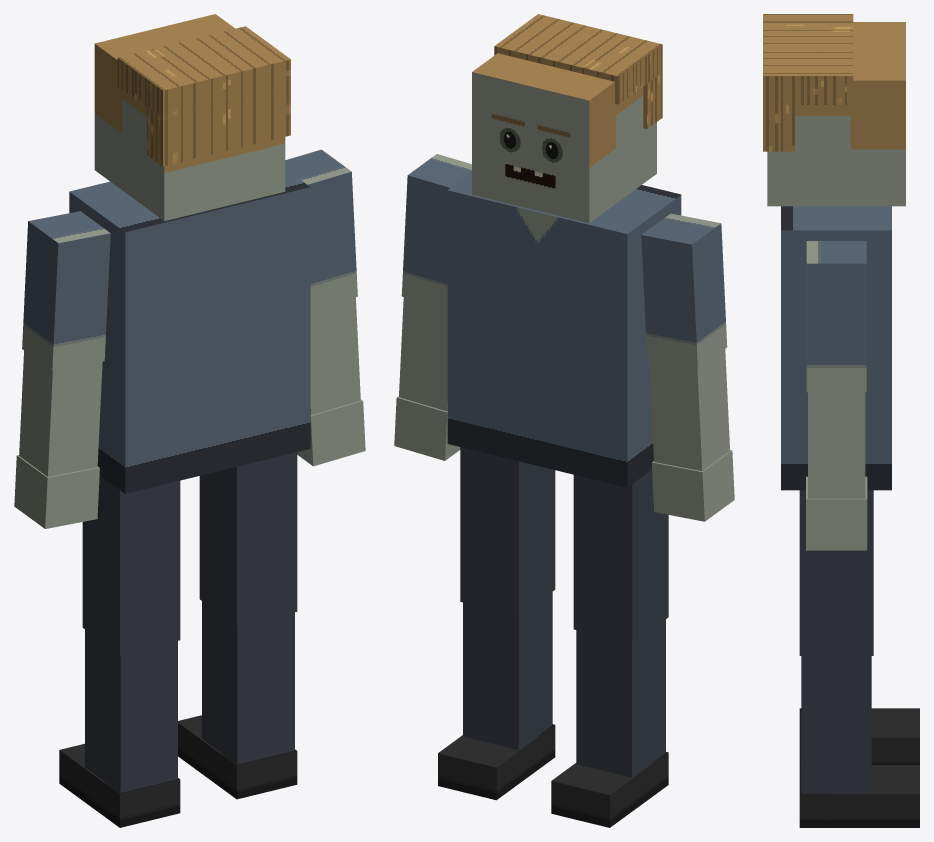
File: hair_receding.glb
3 views of the same model, side by side, from view 1: azimuth 30°, elevation 25°; view 2: azimuth 150°, elevation 25°; view 3: azimuth 270°, elevation 25° (orthographic). The views are drawn at different scales.
Parts seen in each view (by area): view 1: block_torso, block_head, block_thigh.L, block_thigh.R, block_shin.R, block_shin.L, block_upper_arm.L, block_hair-receding, block_forearm.L, block_upper_arm.R, block_hair-back, block_forearm.R (+4 smaller); view 2: block_torso, block_head, block_thigh.L, block_thigh.R, block_shin.L, block_shin.R, block_upper_arm.L, block_forearm.L, block_hair-receding, block_upper_arm.R, block_foot.L, block_foot.R (+4 smaller); view 3: block_head, block_torso, block_shin.R, block_upper_arm.R, block_thigh.R, block_hair-receding, block_forearm.R, block_foot.R, block_hand.R, block_foot.L, block_hair-back.
Part boxes in pixels (x1,y1,x2,y2): block_torso: (69, 169, 310, 493); block_head: (94, 14, 285, 220); block_thigh.L: (82, 475, 180, 654); block_thigh.R: (199, 452, 297, 626); block_shin.R: (202, 601, 294, 764); block_shin.L: (85, 629, 177, 792); block_upper_arm.L: (22, 211, 110, 370); block_hair-receding: (117, 26, 290, 119); block_forearm.L: (19, 350, 102, 476); block_upper_arm.R: (285, 149, 357, 310); block_hair-back: (147, 86, 290, 166); block_forearm.R: (310, 297, 360, 415); block_torso: (447, 172, 681, 487); block_head: (472, 53, 656, 223); block_thigh.L: (573, 470, 668, 643); block_thigh.R: (460, 447, 555, 615); block_shin.L: (576, 619, 665, 777); block_shin.R: (463, 592, 552, 749); block_upper_arm.L: (641, 213, 727, 368); block_forearm.L: (649, 349, 729, 470); block_hair-receding: (494, 14, 662, 104); block_upper_arm.R: (401, 154, 471, 309); block_foot.L: (551, 752, 668, 827); block_foot.R: (438, 724, 555, 800); block_head: (767, 22, 905, 206); block_torso: (781, 206, 891, 490); block_shin.R: (801, 656, 871, 793); block_upper_arm.R: (806, 241, 866, 392); block_thigh.R: (799, 490, 873, 655); block_hair-receding: (763, 14, 853, 104); block_forearm.R: (808, 392, 865, 498); block_foot.R: (799, 765, 919, 827); block_hand.R: (806, 476, 867, 550); block_foot.L: (799, 708, 919, 764); block_hair-back: (763, 102, 794, 151).
Bounding box in the file's own units: 0.7948 × 1.76 × 0.339.
1 material, 1 textured.
